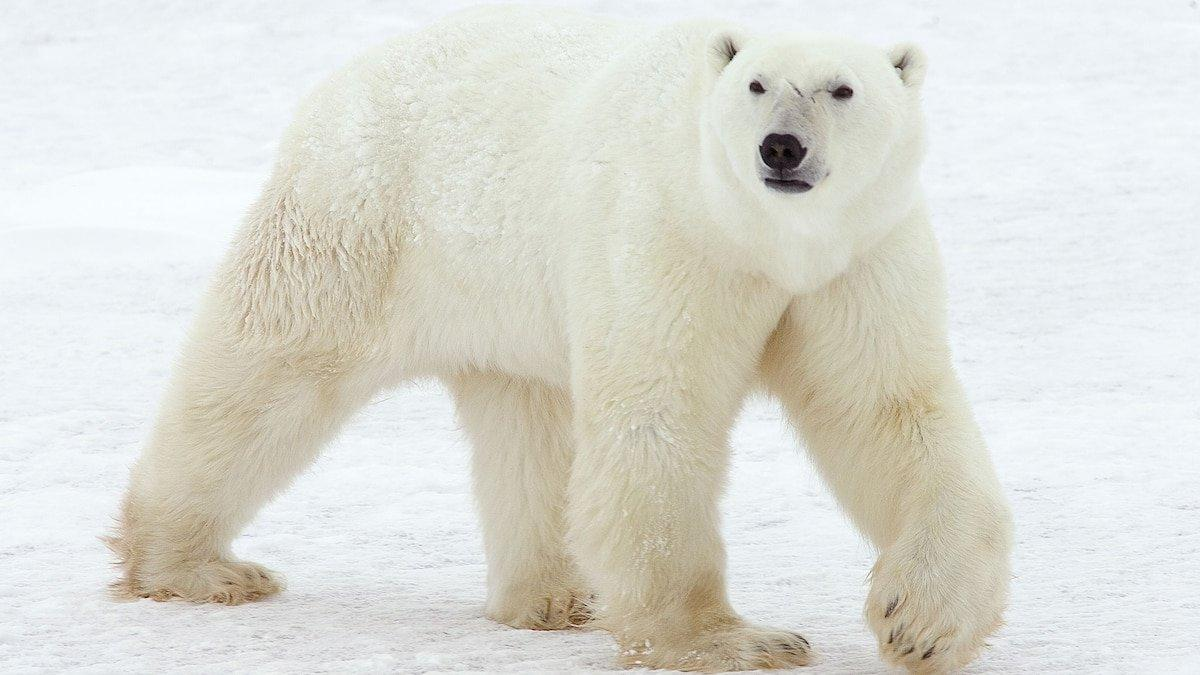bear: (115, 7, 1015, 675)
